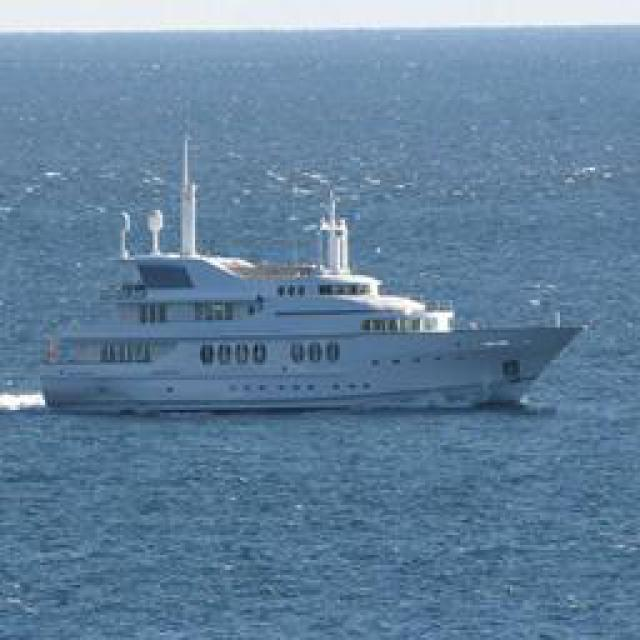Ship: (31, 136, 589, 416)
